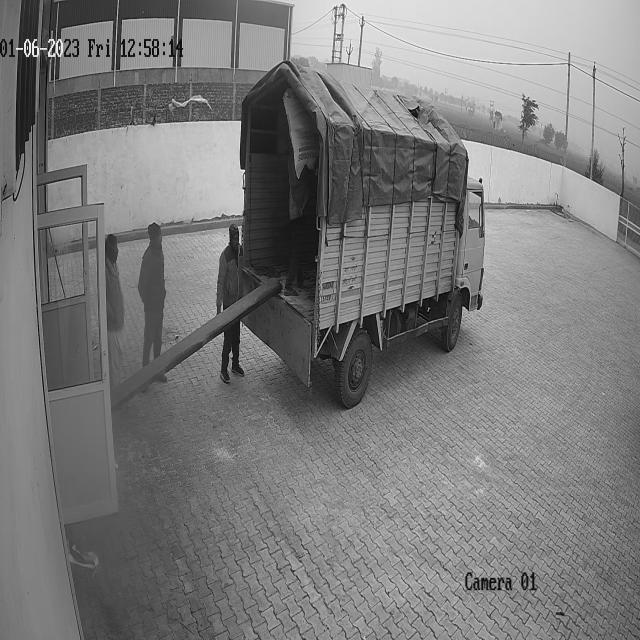sack: (282, 85, 319, 176)
